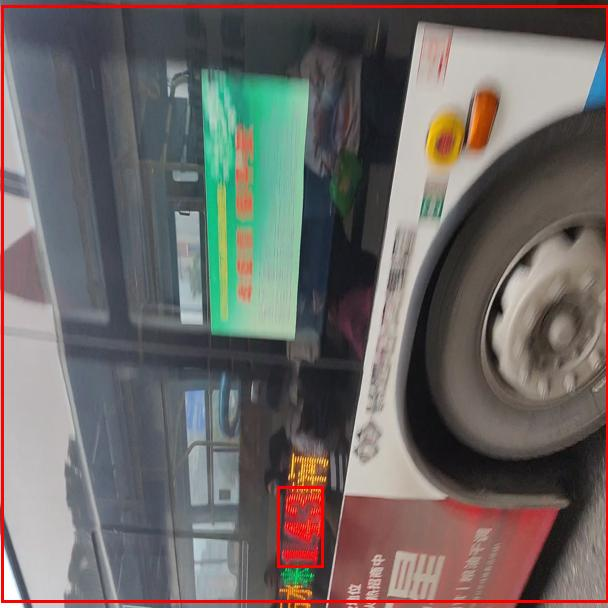bus: (1, 5, 608, 602)
screen: (277, 486, 323, 567)
